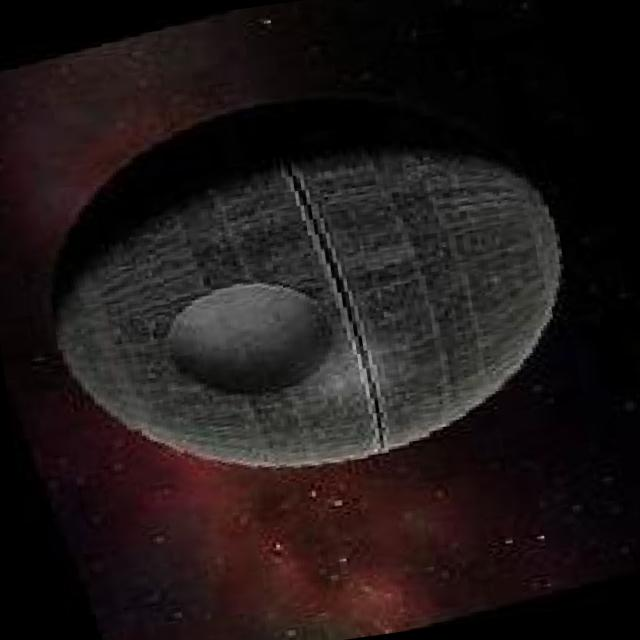Death Star: (14, 37, 603, 496)
